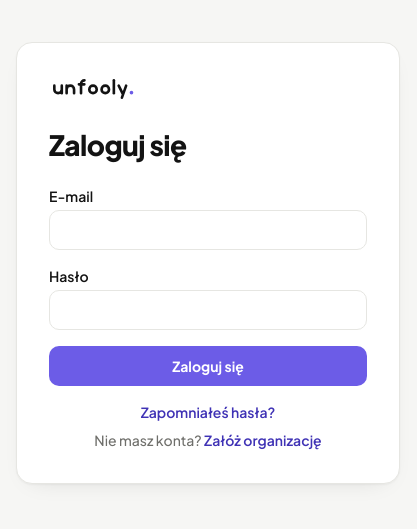
Test case: LoginPage › pokazuje generyczny komunikat błędu logowania, bez wskazania, które pole jest złe
Type "admin@example.test" into the field labelled "E-mail". click: (208, 230)
box: [49,210,367,250]
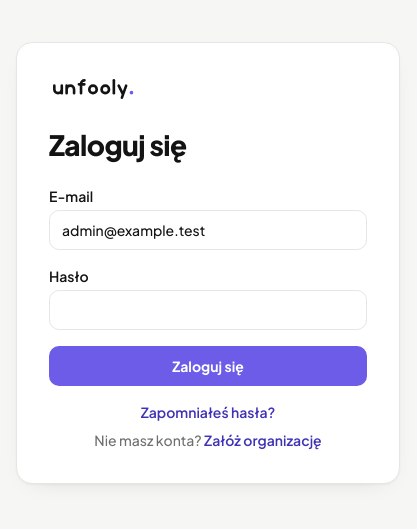
Type "zlehaslo" into the password field labelled "Hasło". click: (208, 310)
box: [49,290,367,330]
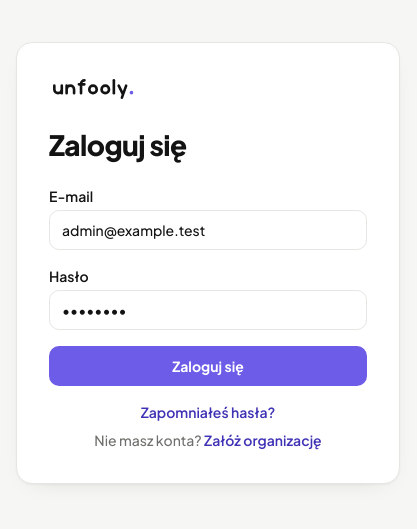
Click the button "Zaloguj się". click: (208, 366)
box: [49,346,367,386]
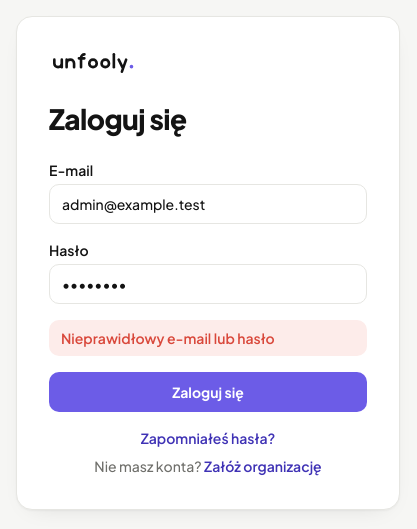
Check: the message reads "Nieprawidłowy e-mail lub hasło", box [61,329,275,347]
